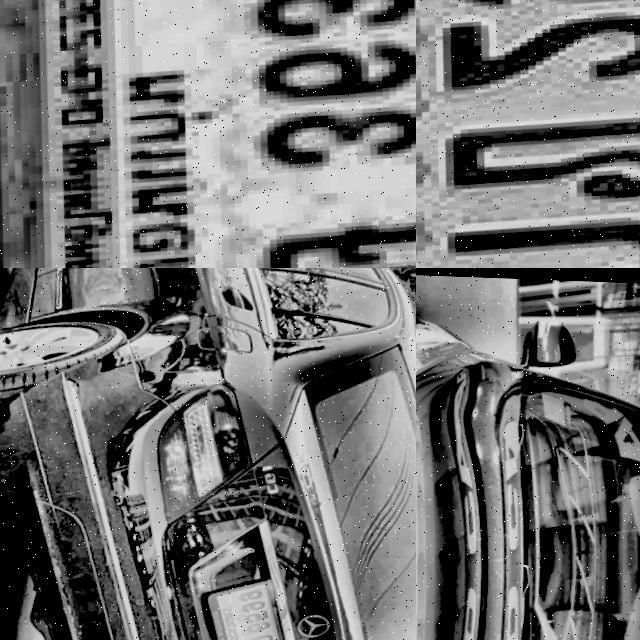license-plate: (0, 0, 416, 268), (416, 0, 640, 268), (209, 572, 306, 640)
